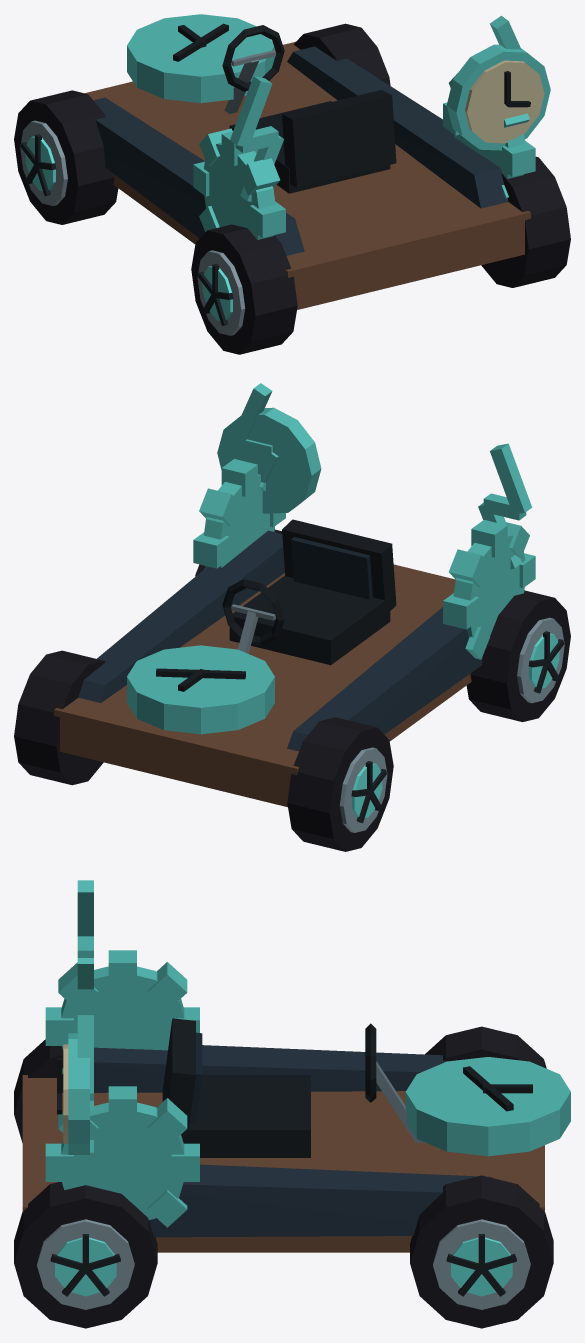
File: kart.glb
3 renders of one model, top to bottom at view 1: azimuth 30°, elevation 25°; view 2: azimuth 150°, elevation 25°; view 3: azimuth 270°, elevation 25°, orthographic. The views are drawn at different scales.
Visible parts, largest first — view 1: identity-clockwork-clockwork-brass-escapement, identity-clockwork-driver-cockpit, wheel-rear-left, wheel-front-left, identity-clockwork-motif-clock, wheel-rear-right, identity-clockwork-motif-electric, wheel-front-right; view 2: identity-clockwork-clockwork-brass-escapement, identity-clockwork-driver-cockpit, wheel-front-left, wheel-rear-left, wheel-front-right, identity-clockwork-motif-clock, identity-clockwork-motif-electric; view 3: identity-clockwork-clockwork-brass-escapement, wheel-front-right, wheel-rear-right, identity-clockwork-driver-cockpit, identity-clockwork-motif-clock, identity-clockwork-motif-electric, wheel-front-left, wheel-rear-left.
Part boxes in pixels (x1,y1,x2,y2): identity-clockwork-clockwork-brass-escapement: [85, 14, 535, 309]; identity-clockwork-driver-cockpit: [222, 25, 396, 193]; wheel-rear-left: [191, 224, 297, 354]; wheel-front-left: [14, 90, 118, 224]; identity-clockwork-motif-clock: [446, 44, 550, 150]; wheel-rear-right: [481, 156, 570, 287]; identity-clockwork-motif-electric: [230, 15, 521, 201]; wheel-front-right: [294, 23, 390, 85]; identity-clockwork-clockwork-brass-escapement: [54, 459, 535, 807]; identity-clockwork-driver-cockpit: [222, 519, 396, 665]; wheel-front-left: [287, 717, 393, 851]; wheel-rear-left: [466, 590, 570, 721]; wheel-front-right: [14, 650, 105, 785]; identity-clockwork-motif-clock: [217, 407, 321, 513]; identity-clockwork-motif-electric: [230, 383, 532, 569]; identity-clockwork-clockwork-brass-escapement: [22, 950, 570, 1252]; wheel-front-right: [410, 1175, 553, 1328]; wheel-rear-right: [14, 1182, 157, 1328]; identity-clockwork-driver-cockpit: [162, 1018, 425, 1157]; identity-clockwork-motif-clock: [57, 1033, 89, 1154]; identity-clockwork-motif-electric: [77, 880, 93, 1152]; wheel-front-left: [425, 1026, 546, 1068]; wheel-rear-left: [14, 1039, 63, 1142].
Size of the model in its own units: 1.99 by 1.49 by 2.56.
